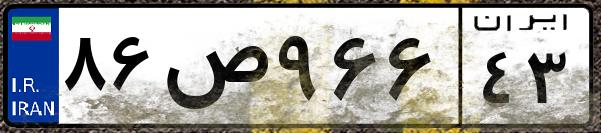3: (525, 38, 570, 115)
4: (475, 38, 525, 113)
6: (385, 28, 445, 110), (330, 28, 385, 110), (110, 28, 158, 98)
8: (57, 26, 110, 100)
9: (270, 28, 330, 110)
ص: (158, 20, 270, 120)
